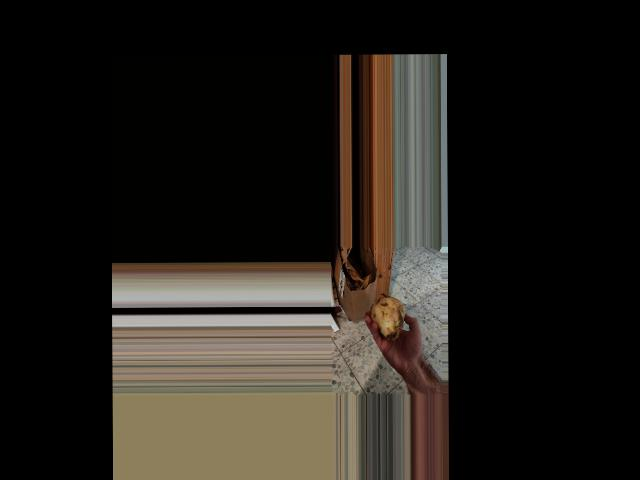onion: (368, 294, 408, 344)
